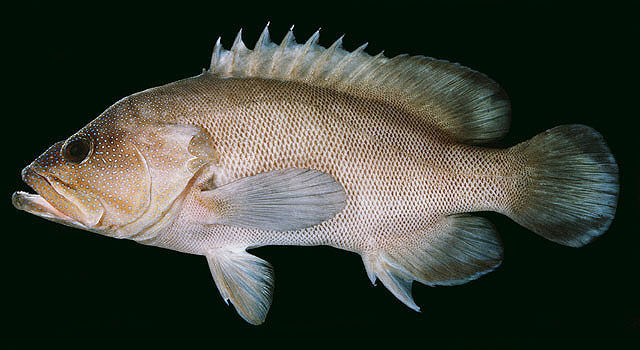fish: (12, 21, 620, 327)
